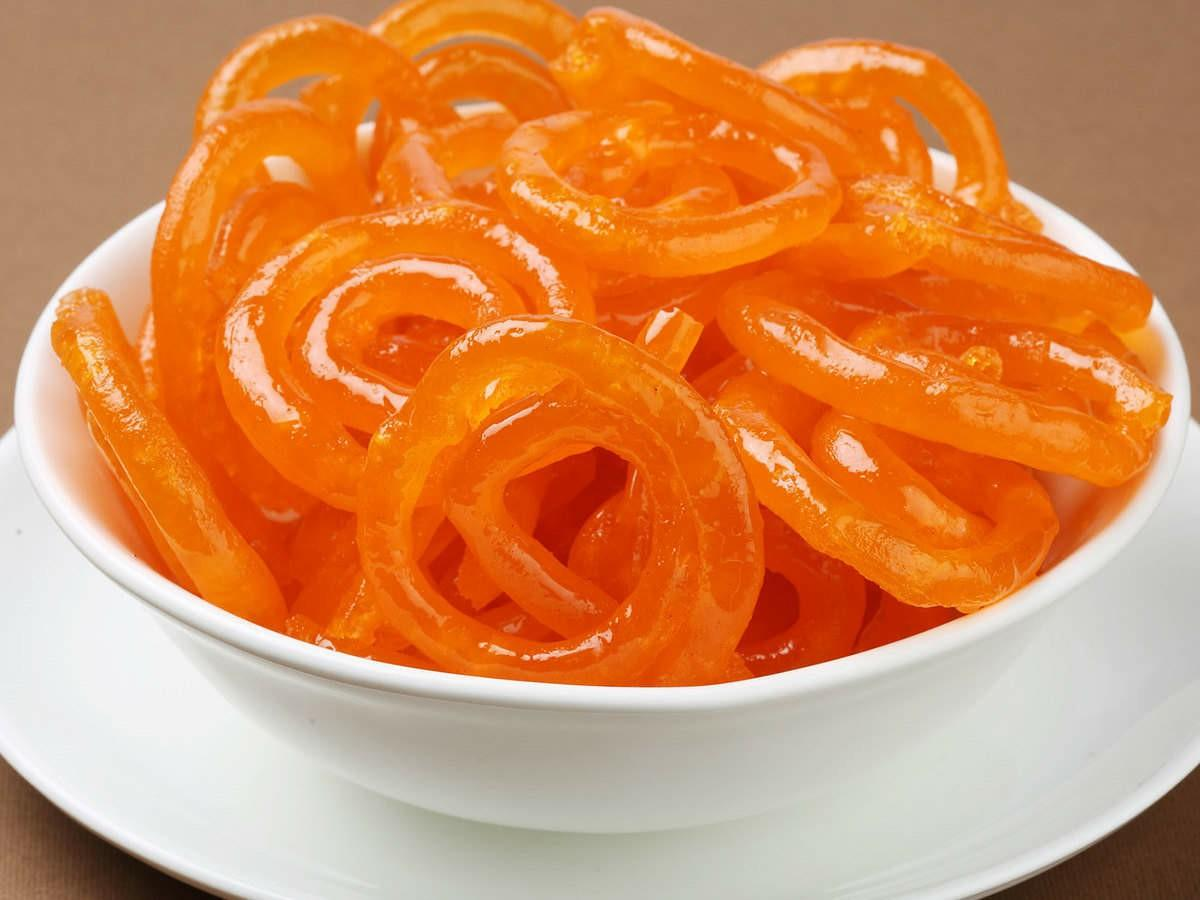Jalebi: (51, 0, 1174, 686)
